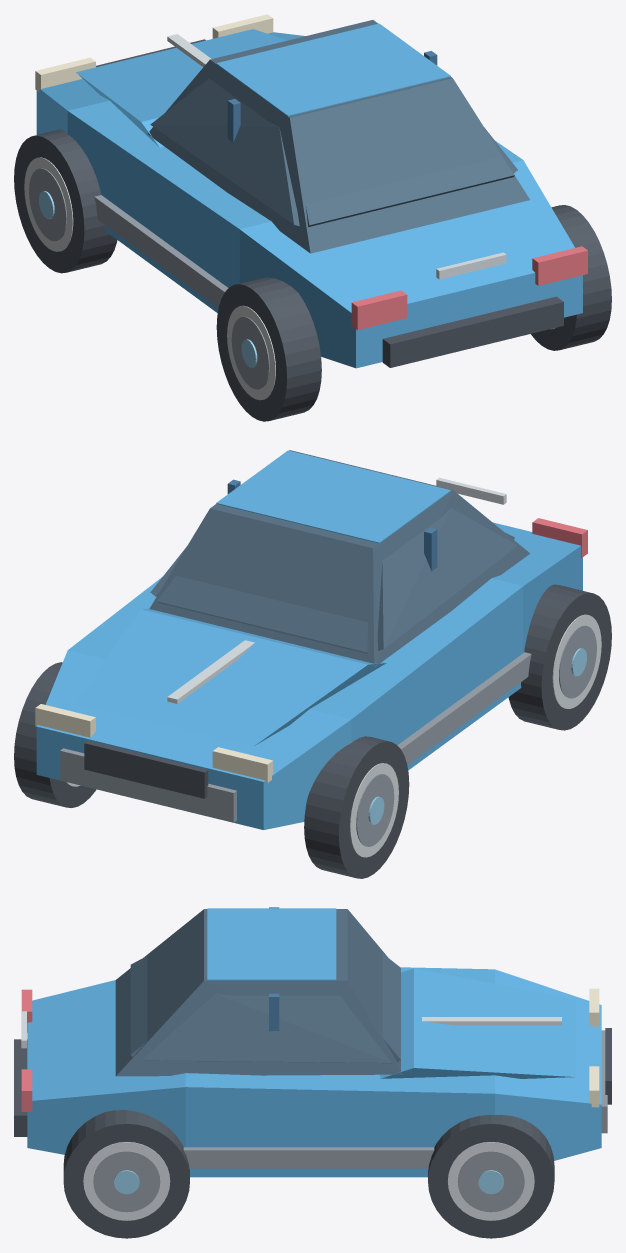
File: concept_car.glb
3 views of the same model, one above another, from view 1: azimuth 30°, elevation 25°; view 2: azimuth 150°, elevation 25°; view 3: azimuth 270°, elevation 25° (orthographic). The views are drawn at different scales.
Parts seen in each view (by area): view 1: aero_body, cabin_frame, roof_insert, window_side_-1, rear_-1_tire, hood_sculpture, front_-1_tire, rear_diffuser, rear_windshield, rear_1_tire, side_skirt_-1, rear_-1_rim_inset (+9 smaller); view 2: aero_body, cabin_frame, hood_sculpture, roof_insert, window_side_-1, front_-1_tire, rear_-1_tire, front_windshield, front_bumper, front_1_tire, front_grille, side_skirt_-1 (+9 smaller); view 3: aero_body, cabin_frame, hood_sculpture, window_side_1, roof_insert, rear_1_tire, front_1_tire, side_skirt_1, rear_1_rim_inset, front_1_rim_inset, rear_1_rim_outer, front_1_rim_outer (+10 smaller).
Boxes of the visible parts, x1,y1,x2,y2 form: aero_body: [36, 32, 582, 368]; cabin_frame: [147, 20, 529, 253]; roof_insert: [216, 23, 450, 116]; window_side_-1: [150, 78, 299, 226]; rear_-1_tire: [216, 277, 321, 421]; hood_sculpture: [76, 29, 287, 147]; front_-1_tire: [14, 129, 117, 273]; rear_diffuser: [382, 296, 563, 367]; rear_windshield: [305, 157, 514, 226]; rear_1_tire: [531, 205, 611, 350]; side_skirt_-1: [94, 195, 228, 307]; rear_-1_rim_inset: [231, 316, 269, 389]; aero_body: [36, 522, 582, 829]; cabin_frame: [149, 450, 529, 667]; hood_sculpture: [76, 608, 386, 746]; roof_insert: [216, 450, 450, 543]; window_side_-1: [377, 508, 517, 650]; front_-1_tire: [304, 736, 409, 878]; rear_-1_tire: [508, 584, 611, 730]; front_windshield: [157, 575, 368, 654]; front_bumper: [60, 748, 236, 822]; front_1_tire: [14, 662, 96, 807]; front_grille: [84, 740, 208, 798]; side_skirt_-1: [397, 652, 531, 764]; aero_body: [27, 967, 601, 1177]; cabin_frame: [115, 909, 402, 1076]; hood_sculpture: [380, 968, 575, 1078]; window_side_1: [141, 993, 391, 1063]; roof_insert: [207, 908, 336, 980]; rear_1_tire: [63, 1110, 189, 1238]; front_1_tire: [428, 1114, 554, 1238]; side_skirt_1: [183, 1147, 434, 1168]; rear_1_rim_inset: [93, 1151, 160, 1212]; front_1_rim_inset: [457, 1151, 524, 1212]; rear_1_rim_outer: [83, 1142, 170, 1220]; front_1_rim_outer: [447, 1142, 534, 1220].
Bounding box in the file's own units: 0.934 × 0.6695 × 1.62.
